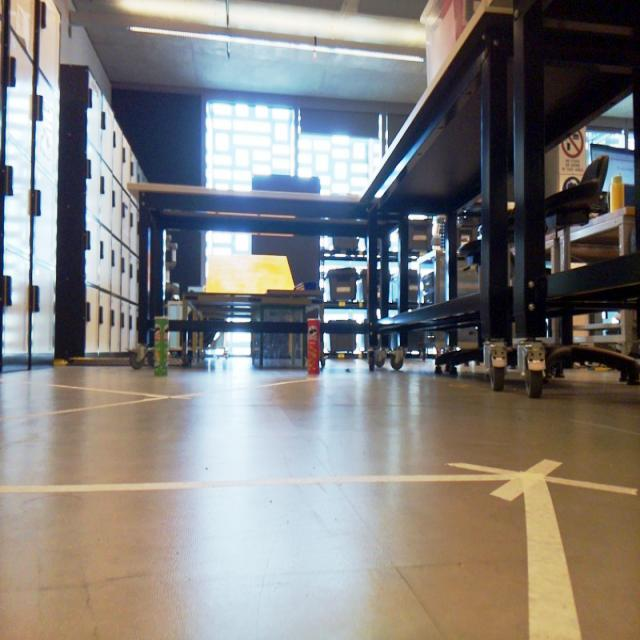greenpringles: (148, 310, 174, 384)
redpringles: (300, 311, 328, 378)
